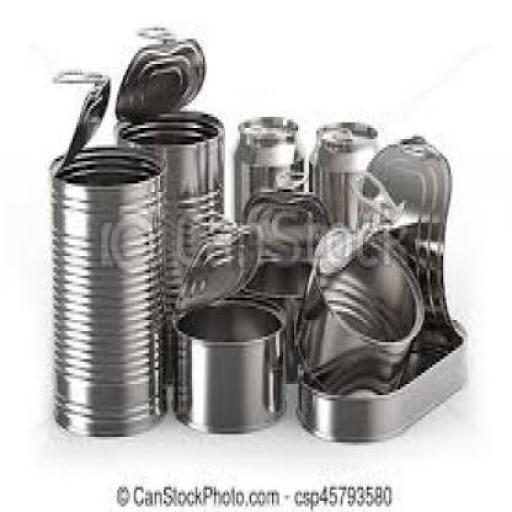metal: (50, 148, 165, 437), (115, 108, 226, 386), (294, 225, 422, 398), (356, 131, 460, 342), (294, 323, 464, 443), (171, 290, 283, 434), (244, 170, 331, 295), (173, 214, 259, 318), (114, 22, 205, 120), (232, 117, 302, 220), (311, 120, 376, 228), (50, 66, 108, 178), (266, 292, 300, 384)
